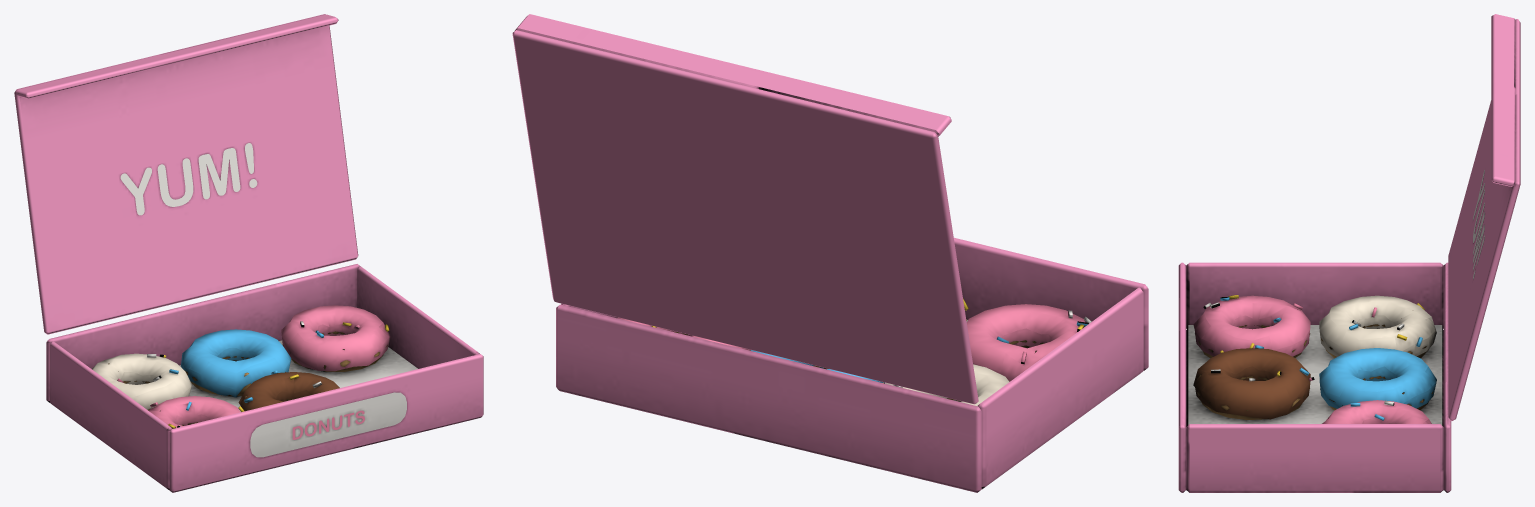
Rendered from donut_box.glb.
3 renders of one model, left to right at view 1: azimuth 30°, elevation 25°; view 2: azimuth 150°, elevation 25°; view 3: azimuth 270°, elevation 25°, orthographic. The views are drawn at different scales.
Visible parts, largest first — view 1: donut_box; view 2: donut_box; view 3: donut_box.
Part boxes in pixels (x1=…): donut_box: x1=14, y1=14, x2=483, y2=492; donut_box: x1=512, y1=14, x2=1148, y2=492; donut_box: x1=1178, y1=14, x2=1520, y2=492.
Bounding box in the file's own units: 0.3 × 0.269 × 0.2639.
Materials: 10 (8 with a texture image).
